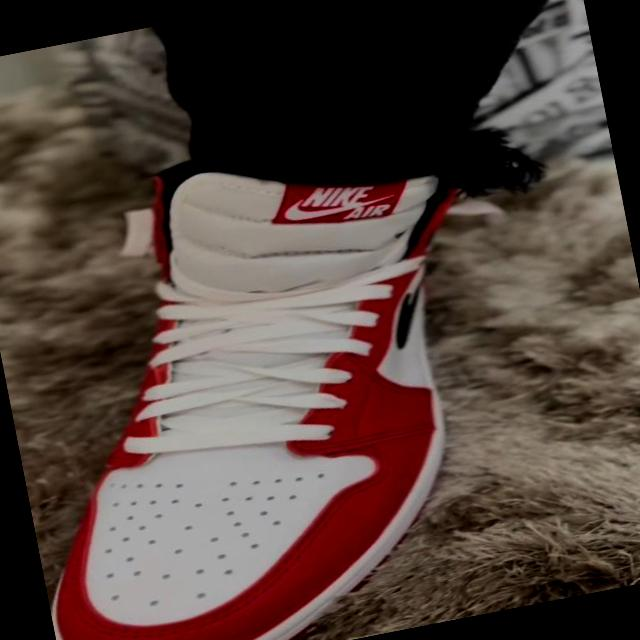nike_original_jordan: (0, 121, 515, 640)
